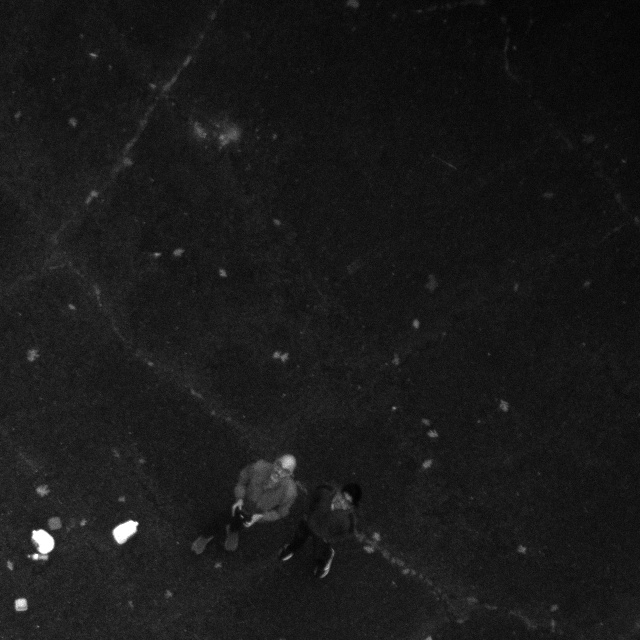bottle: (25, 551, 50, 563)
can: (107, 518, 142, 545), (27, 527, 55, 555)
container: (44, 514, 63, 532)
